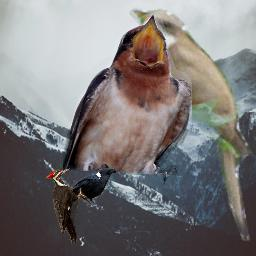Crow: (59, 168, 117, 210)
Cuckoo: (125, 3, 255, 245)
Swallow: (63, 14, 192, 185)
Woodpecker: (46, 168, 87, 245)
